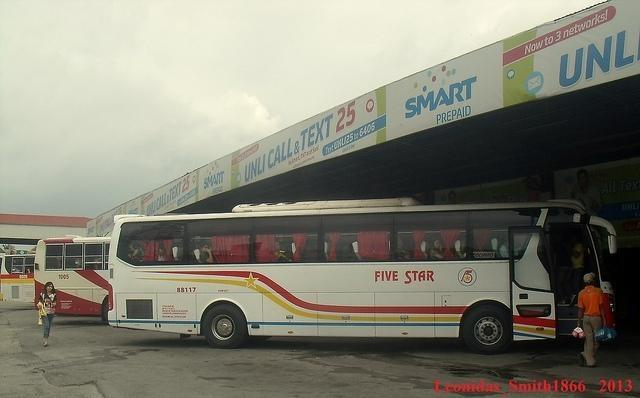bus: (109, 199, 620, 356), (34, 236, 111, 322), (0, 252, 36, 302)
